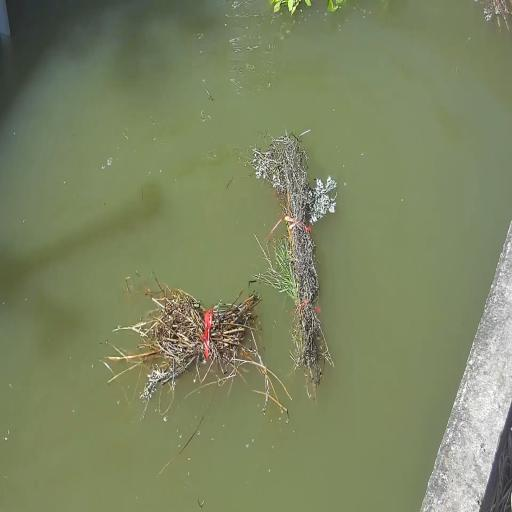twig: (257, 136, 345, 394), (136, 284, 270, 410), (269, 0, 351, 26), (477, 0, 511, 34)
